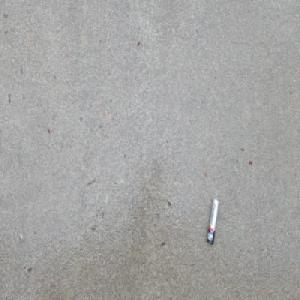Battery: (206, 196, 220, 246)
